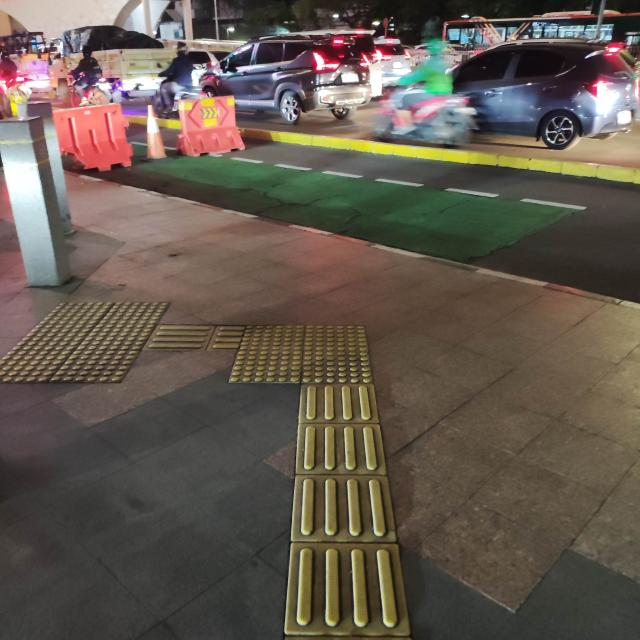kiri: (177, 304, 394, 422)
